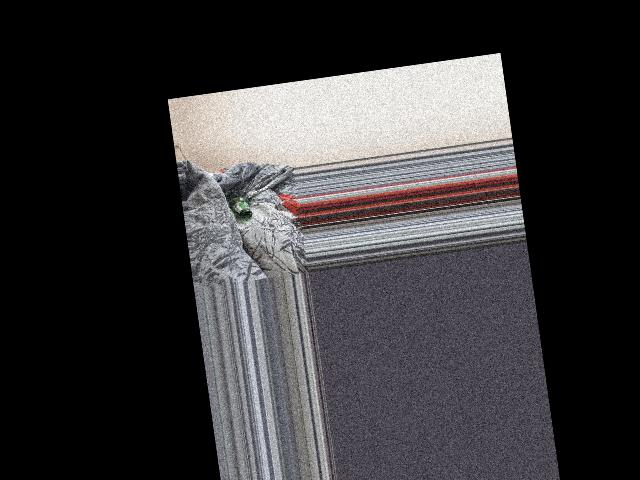beer: (226, 191, 251, 221)
